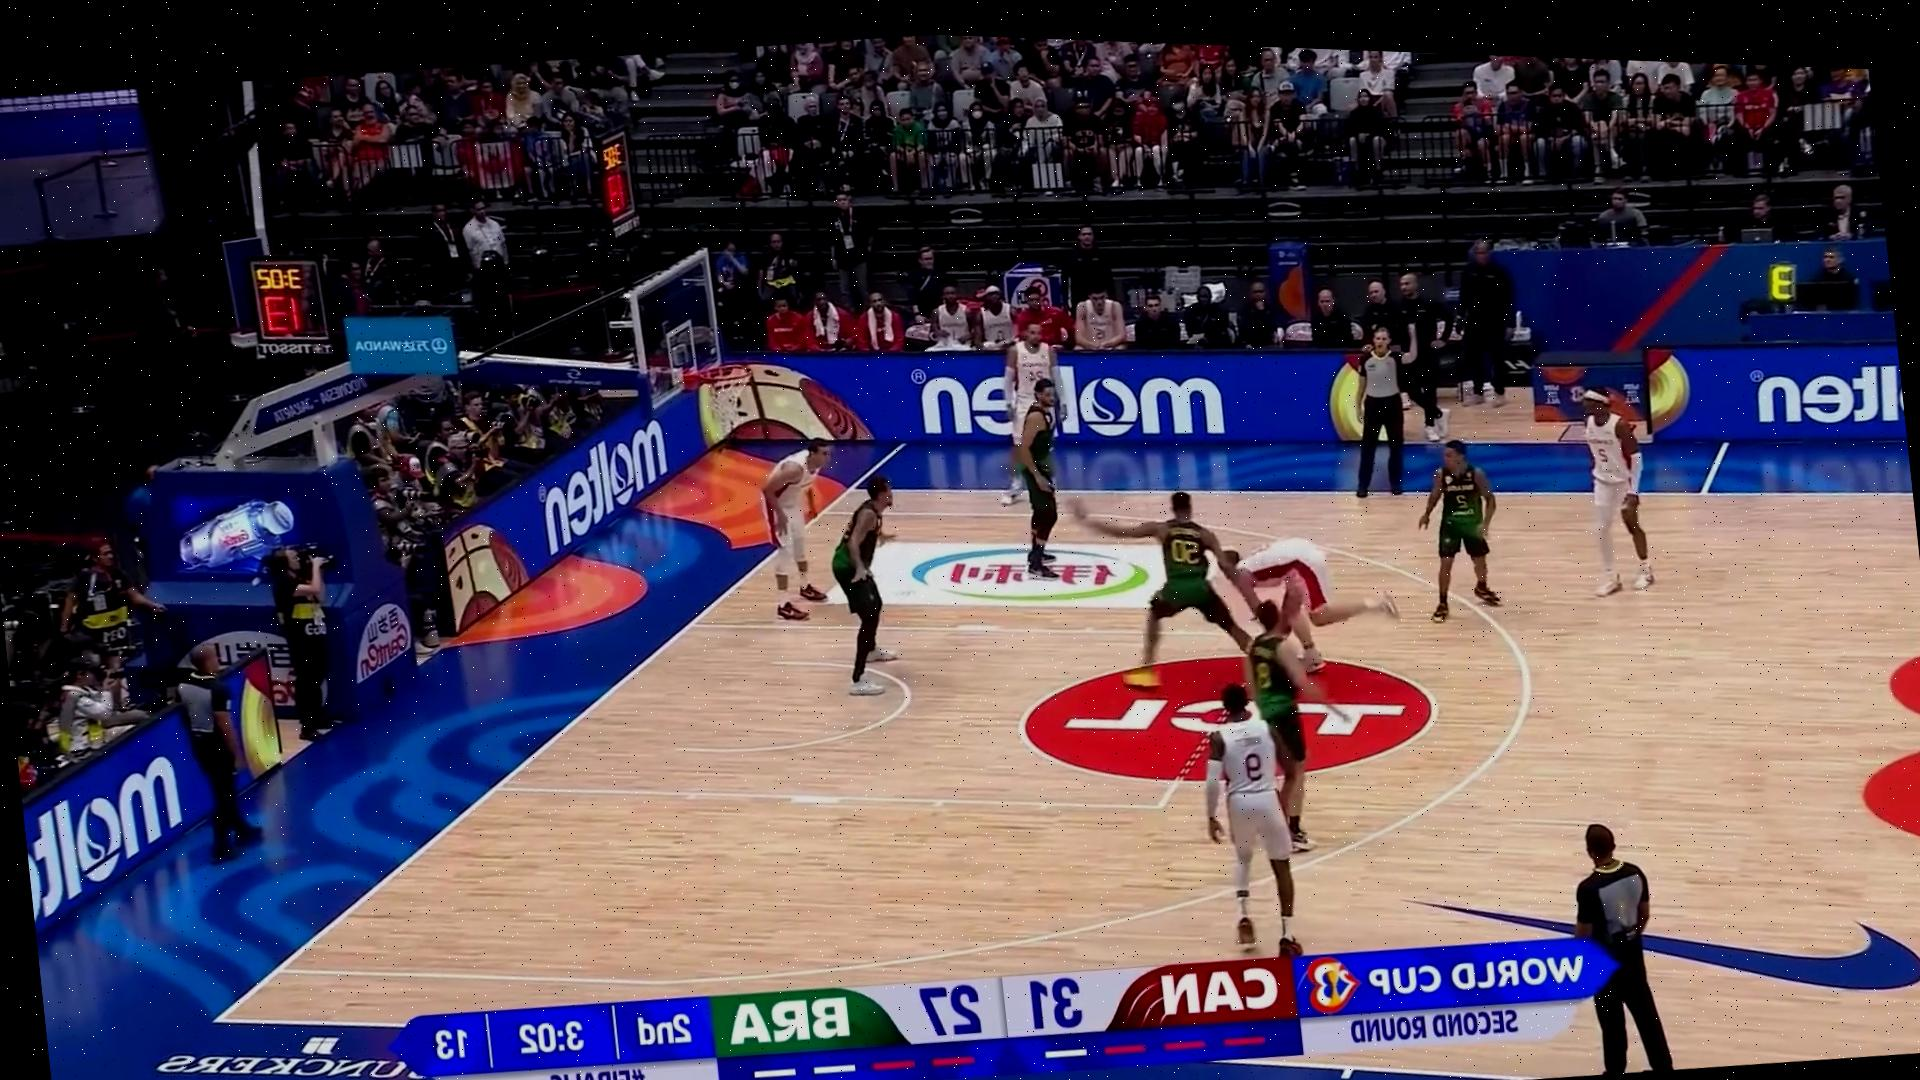foul: (1090, 435, 1398, 714)
